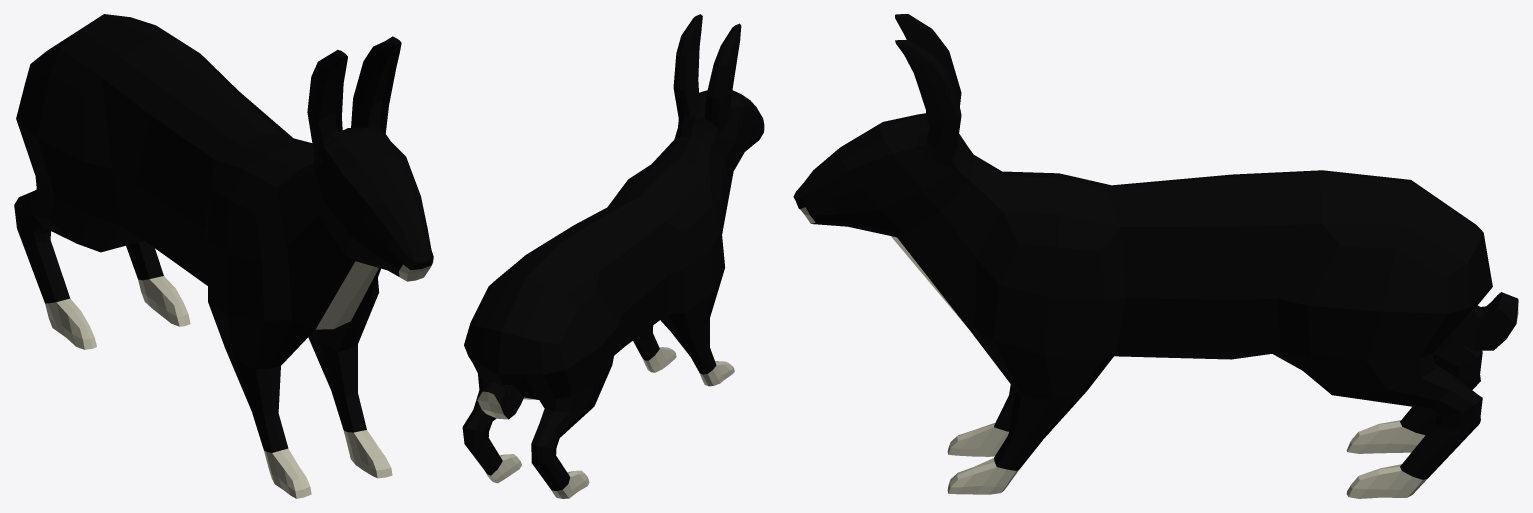
Rendered from animal-rabbit.glb.
3 renders of one model, left to right at view 1: azimuth 30°, elevation 25°; view 2: azimuth 150°, elevation 25°; view 3: azimuth 270°, elevation 25°, orthographic. The views are drawn at different scales.
Parts seen in each view (by area): view 1: 16rabbitFinal; view 2: 16rabbitFinal; view 3: 16rabbitFinal.
Boxes of the visible parts, x1=… form: 16rabbitFinal: x1=14, y1=14, x2=433, y2=498; 16rabbitFinal: x1=462, y1=14, x2=764, y2=498; 16rabbitFinal: x1=793, y1=14, x2=1518, y2=498.
Bounding box in the file's own units: 0.1447 × 0.3833 × 0.5652.
Materials: 1 (1 with a texture image).
